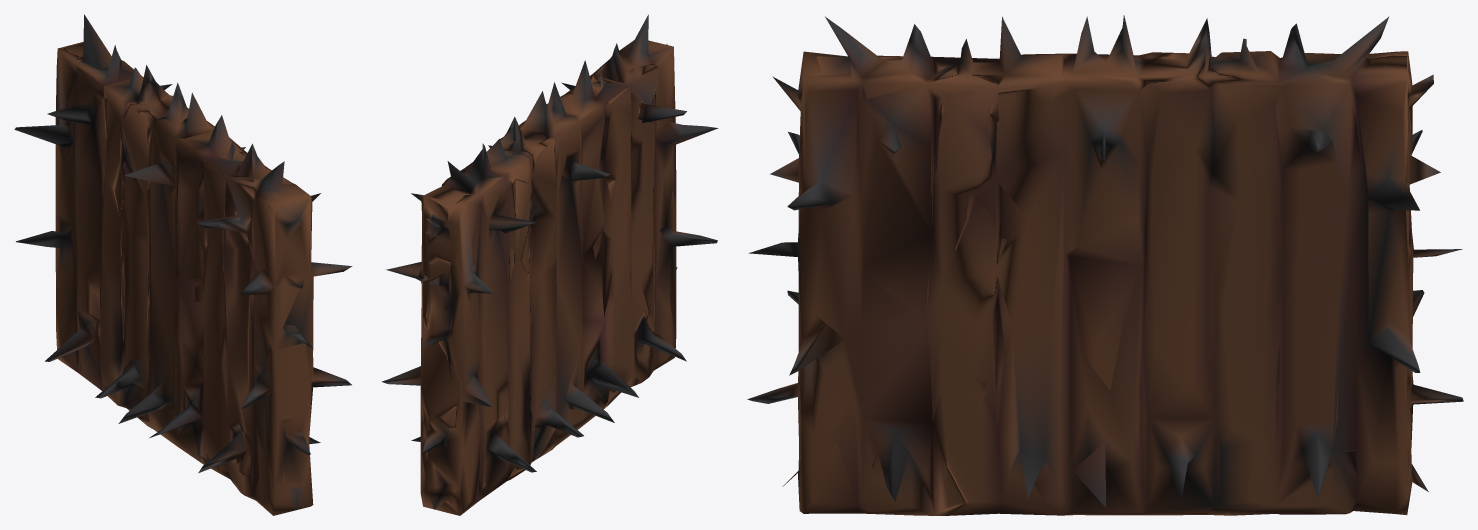
Rendered from gen3d-spike-wall-lod0.glb.
The picture shows the model from 3 angles, left to right: view 1: azimuth 30°, elevation 25°; view 2: azimuth 150°, elevation 25°; view 3: azimuth 270°, elevation 25°; orthographic projection. The views are drawn at different scales.
Parts seen in each view (by area): view 1: part_0; view 2: part_0; view 3: part_0.
Boxes of the visible parts, bbox=[...] form: part_0: bbox=[14, 14, 352, 515]; part_0: bbox=[381, 14, 718, 515]; part_0: bbox=[747, 15, 1463, 515].
Bounding box in the file's own units: 0.3968 × 0.9995 × 1.32.
